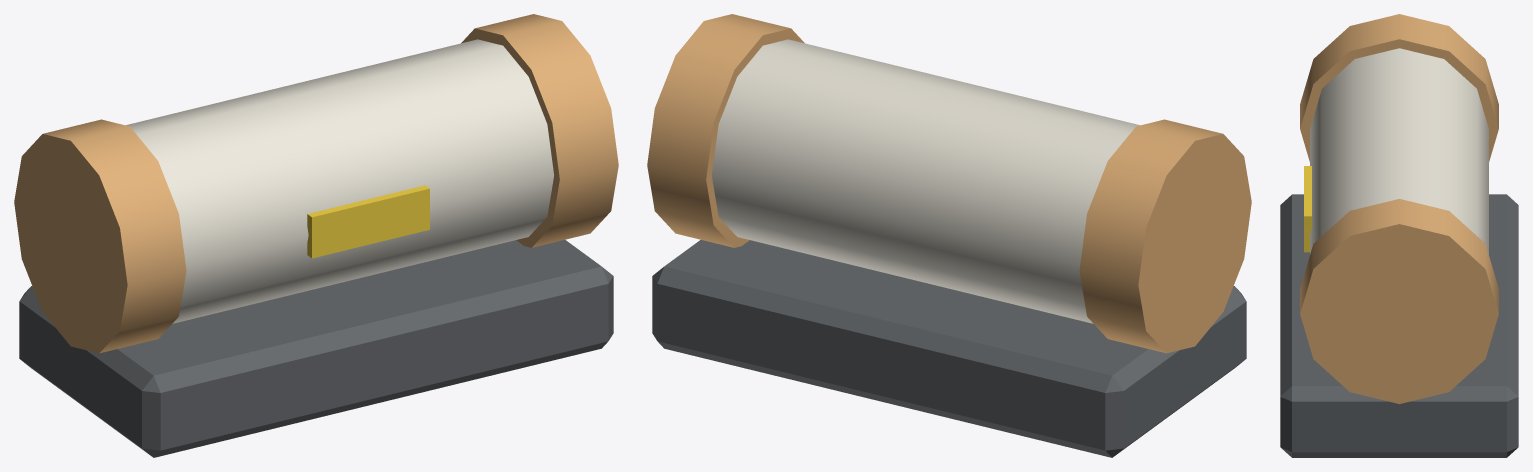
The model's file is salvage_fuse.glb.
3 renders of one model, left to right at view 1: azimuth 30°, elevation 25°; view 2: azimuth 150°, elevation 25°; view 3: azimuth 270°, elevation 25°, orthographic. The views are drawn at different scales.
Visible parts, largest first — view 1: salvage_fuse; view 2: salvage_fuse; view 3: salvage_fuse.
Part boxes in pixels (bbox=[...]): salvage_fuse: bbox=[14, 14, 618, 457]; salvage_fuse: bbox=[647, 14, 1251, 457]; salvage_fuse: bbox=[1280, 14, 1518, 457].
Bounding box in the file's own units: 0.25 × 0.135 × 0.12.
